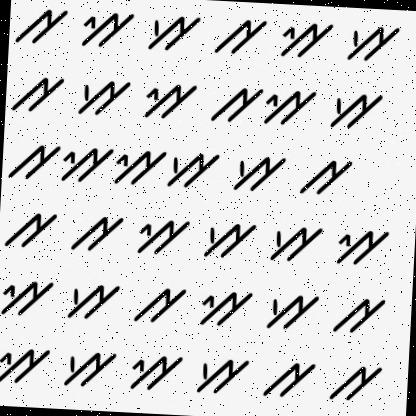wa: (297, 150, 358, 204), (326, 353, 386, 407), (0, 200, 58, 254), (207, 76, 263, 130), (326, 289, 388, 337), (68, 207, 126, 256), (262, 354, 318, 402), (213, 10, 268, 58), (9, 71, 66, 117), (131, 279, 188, 325), (6, 136, 60, 184), (14, 1, 70, 47)
we: (228, 145, 288, 200), (344, 16, 404, 68), (74, 70, 132, 122), (142, 6, 204, 53), (264, 283, 321, 334), (327, 86, 387, 134), (61, 341, 121, 389), (193, 348, 250, 397), (269, 214, 323, 264), (199, 216, 258, 261), (166, 143, 221, 189), (65, 275, 121, 320)
wi: (124, 340, 184, 396), (0, 261, 56, 316), (334, 214, 391, 268), (138, 73, 197, 124), (198, 280, 254, 331), (274, 15, 336, 61), (133, 214, 191, 261), (262, 81, 317, 130), (75, 4, 136, 48), (58, 138, 113, 186), (0, 339, 50, 389), (114, 142, 166, 186)
